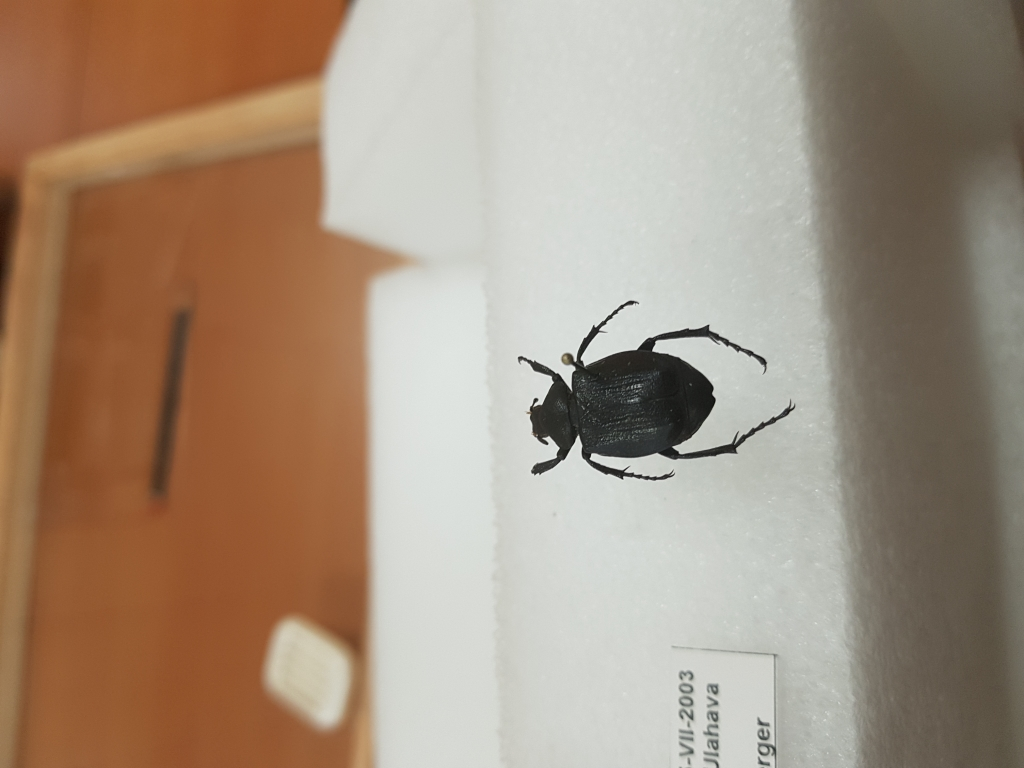Gnorimus_variabilis: (516, 295, 806, 487)
